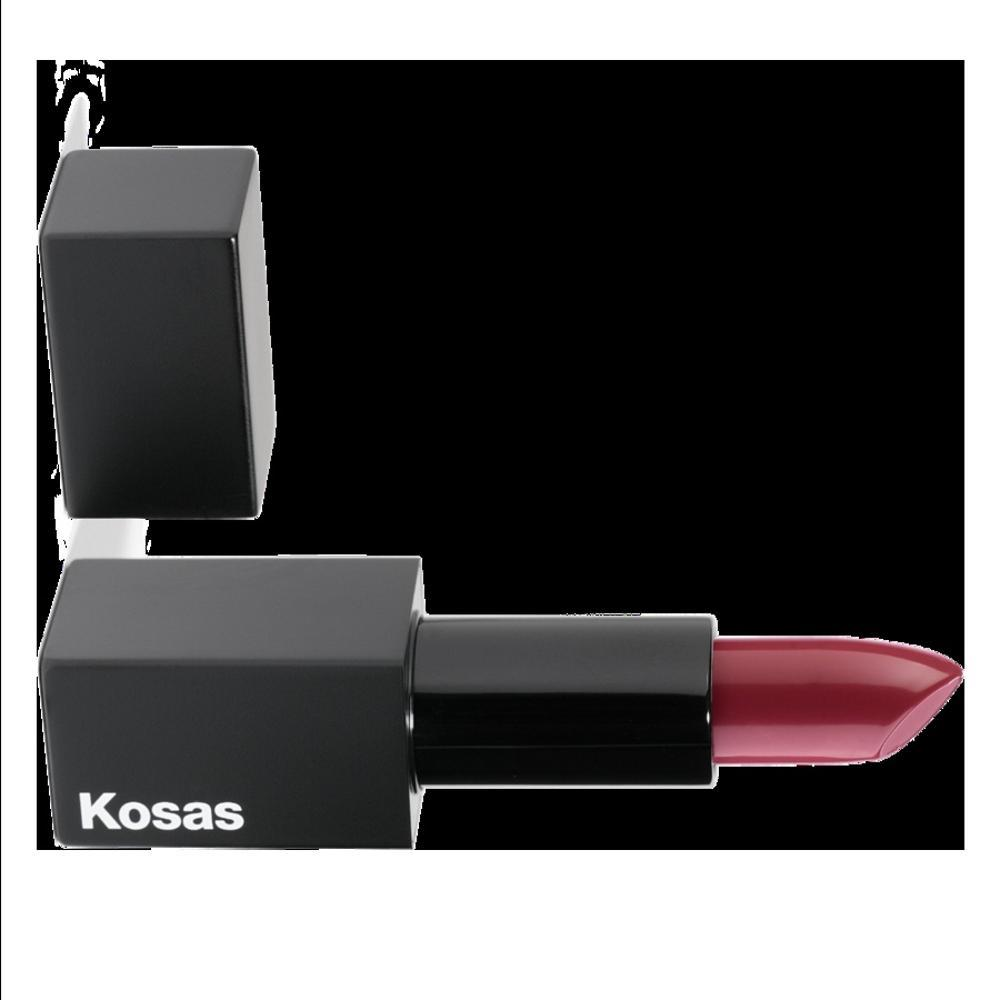lipstick: (41, 524, 960, 862)
